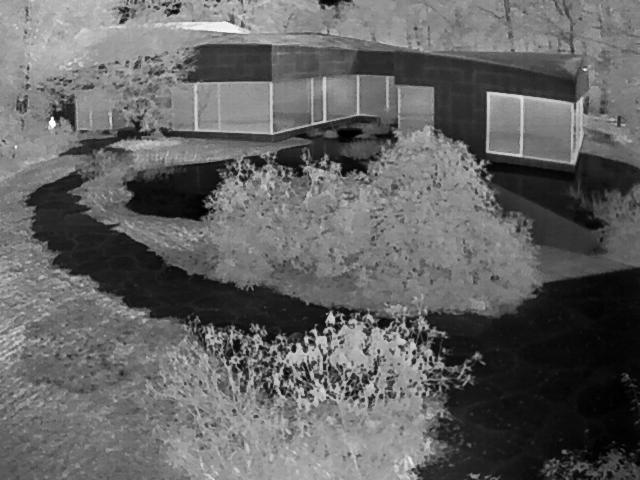person: (48, 115, 58, 131)
